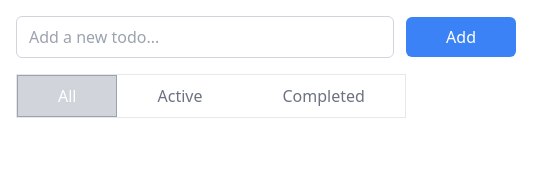
adds a new todo
In the field with placeholder "Add a new todo...": (205, 37) x1=16 y1=16 x2=394 y2=58, type "New Todo"
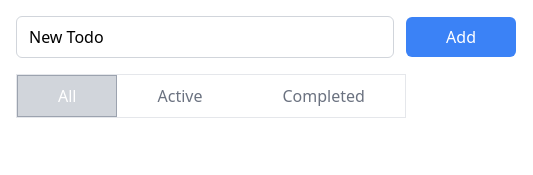
Click the button "Add": (461, 37) x1=406 y1=17 x2=516 y2=57
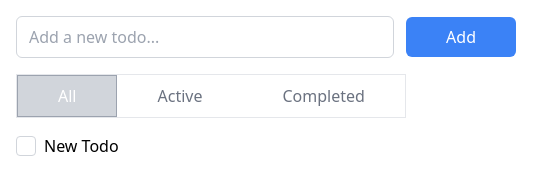
Now the text "New Todo" is shown, box x1=16 y1=134 x2=119 y2=158
